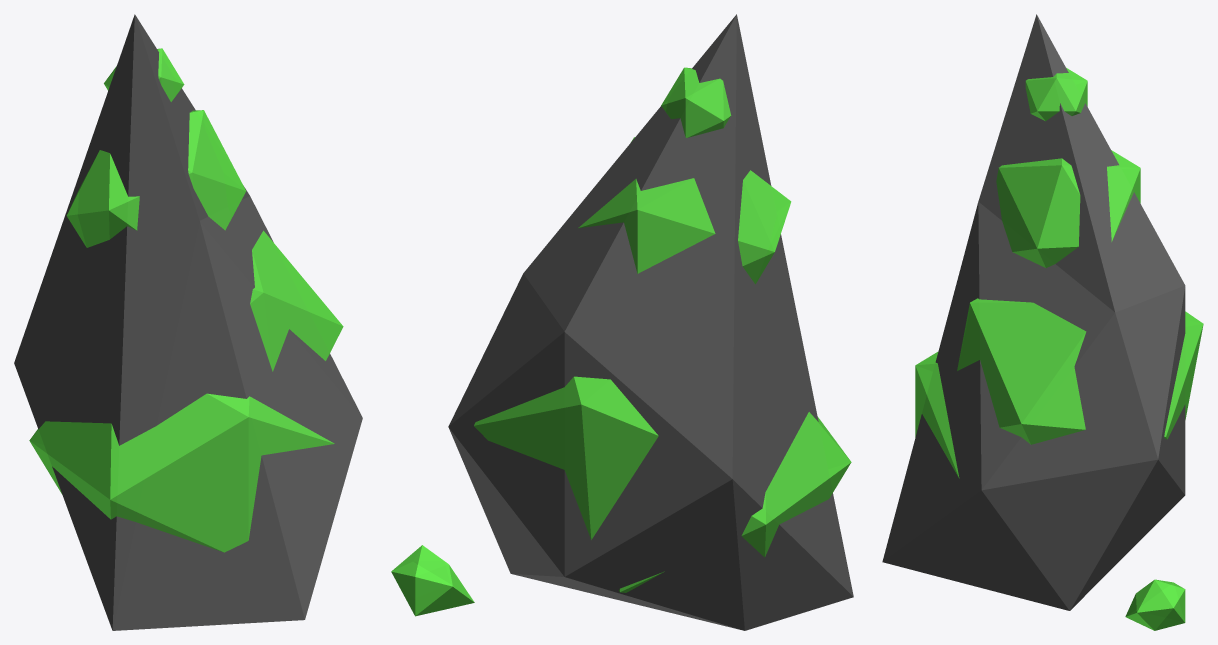
The model's file is Stone_Green.fbx.
3 renders of one model, left to right at view 1: azimuth 30°, elevation 25°; view 2: azimuth 150°, elevation 25°; view 3: azimuth 270°, elevation 25°, orthographic. The views are drawn at different scales.
Visible parts, largest first — view 1: Stone, Solide_platonicien, Solide_platonicien_2_2, Solide_platonicien_1, Solide_platonicien_2; view 2: Stone, Solide_platonicien_1, Solide_platonicien_2_2, Solide_platonicien, Solide_platonicien_3, Solide_platonicien_2; view 3: Stone, Solide_platonicien_1, Solide_platonicien_2_2, Solide_platonicien, Solide_platonicien_2, Solide_platonicien_3.
Part boxes in pixels (<box>): Stone: <box>14,14,362,630</box>; Solide_platonicien: <box>29,393,334,552</box>; Solide_platonicien_2_2: <box>66,110,246,247</box>; Solide_platonicien_1: <box>250,230,343,371</box>; Solide_platonicien_2: <box>104,48,184,101</box>; Stone: <box>448,14,853,630</box>; Solide_platonicien_1: <box>474,376,658,539</box>; Solide_platonicien_2_2: <box>578,137,791,284</box>; Solide_platonicien: <box>619,412,851,592</box>; Solide_platonicien_3: <box>391,545,474,616</box>; Solide_platonicien_2: <box>661,67,731,137</box>; Stone: <box>882,14,1185,610</box>; Solide_platonicien_1: <box>957,298,1203,444</box>; Solide_platonicien_2_2: <box>996,150,1140,267</box>; Solide_platonicien: <box>915,352,959,478</box>; Solide_platonicien_2: <box>1025,67,1087,121</box>; Solide_platonicien_3: <box>1125,579,1185,630</box>.
Size of the model in its own units: 143 by 245 by 139.
